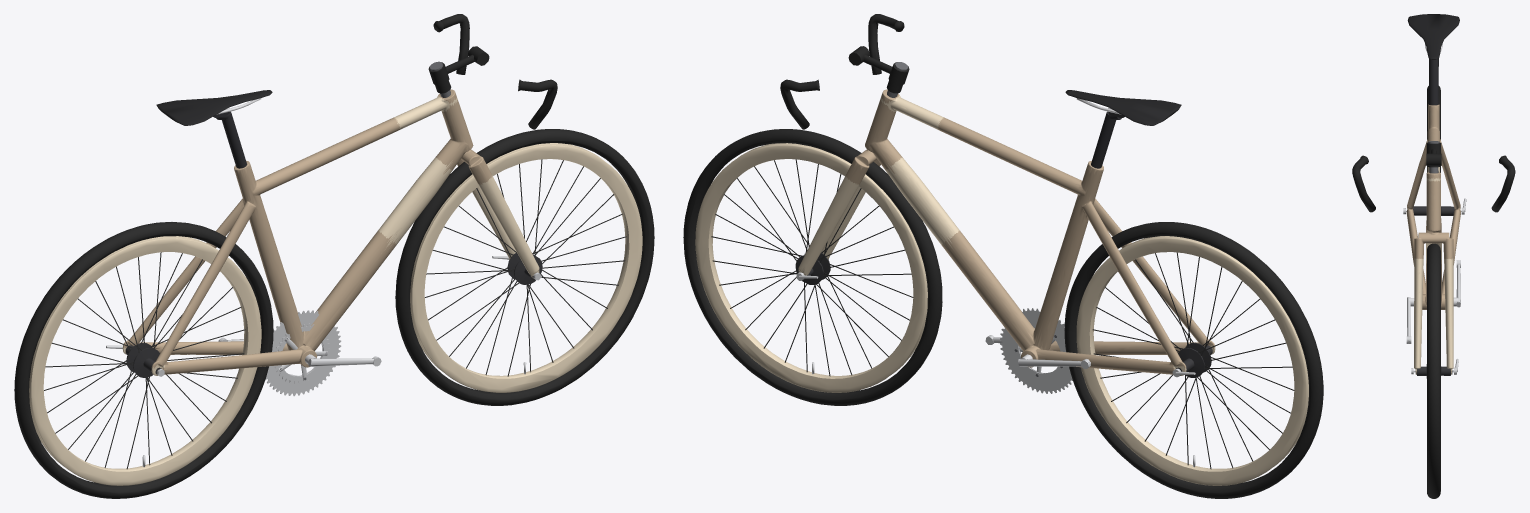
File: bike_lite.glb
3 renders of one model, left to right at view 1: azimuth 30°, elevation 25°; view 2: azimuth 150°, elevation 25°; view 3: azimuth 270°, elevation 25°, orthographic. The views are drawn at different scales.
Parts seen in each view (by area): view 1: saddle, fork, tyre_front, dropbar; view 2: saddle, fork, tyre_front, dropbar; view 3: fork, tyre_front, dropbar, saddle.
Boxes of the visible parts, x1,y1,x2,y2 form: saddle: (29,90,642,485); fork: (122,89,539,375); tyre_front: (14,129,654,498); dropbar: (44,14,626,469); saddle: (695,90,1308,485); fork: (798,89,1215,375); tyre_front: (683,129,1323,498); dropbar: (711,14,1294,469); fork: (1406,104,1460,374); tyre_front: (1427,86,1440,498); dropbar: (1352,44,1515,378); saddle: (1407,14,1459,59).
Bounding box in the file's own units: 1.73 × 0.9733 × 0.4457.
4 materials, 4 textured.
